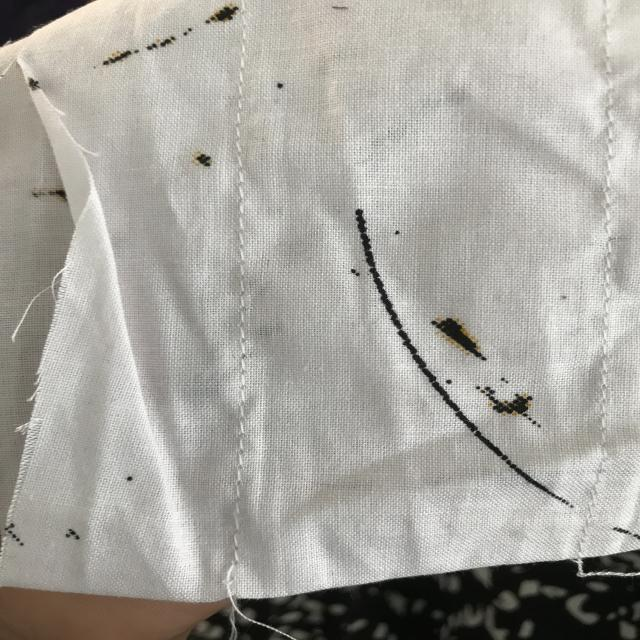good: (225, 164, 260, 242)
